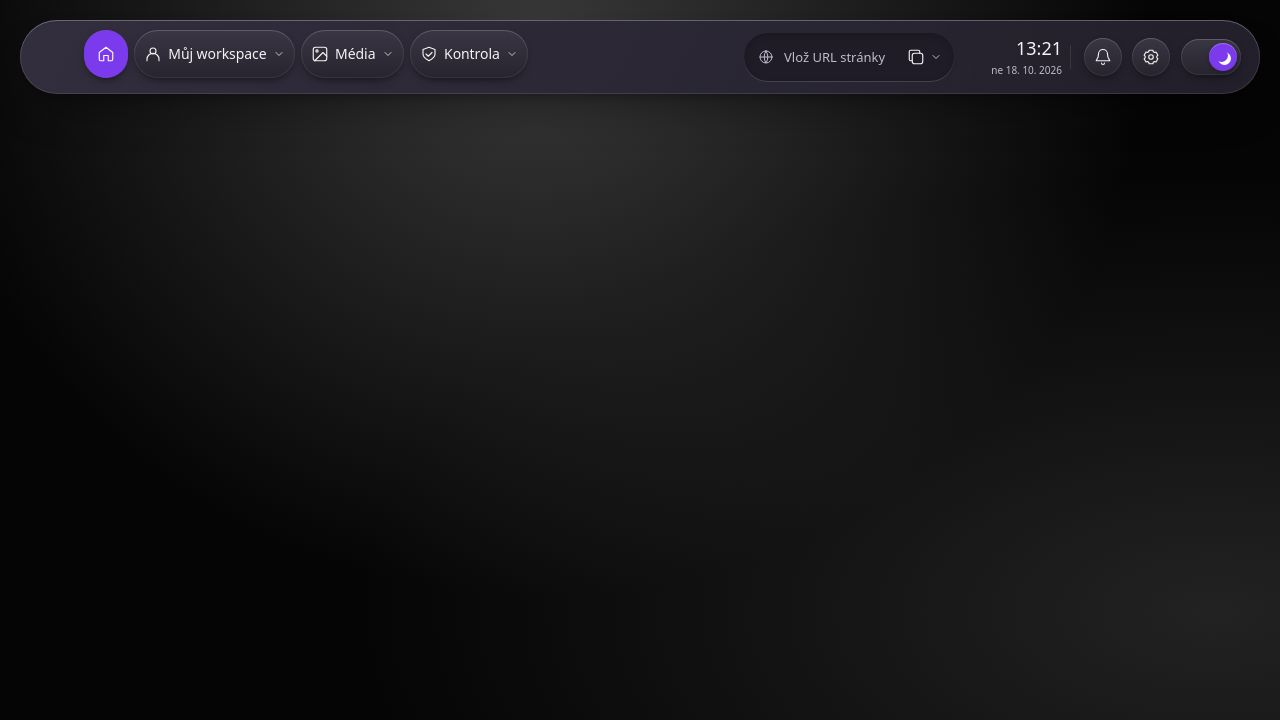
it: migrated application › opens notifications in the shared header menu flow and restores focus
This screenshot has width=1280, height=720.
Click the button named "Upozornění" at (1103, 57), box [1081,35,1125,79]
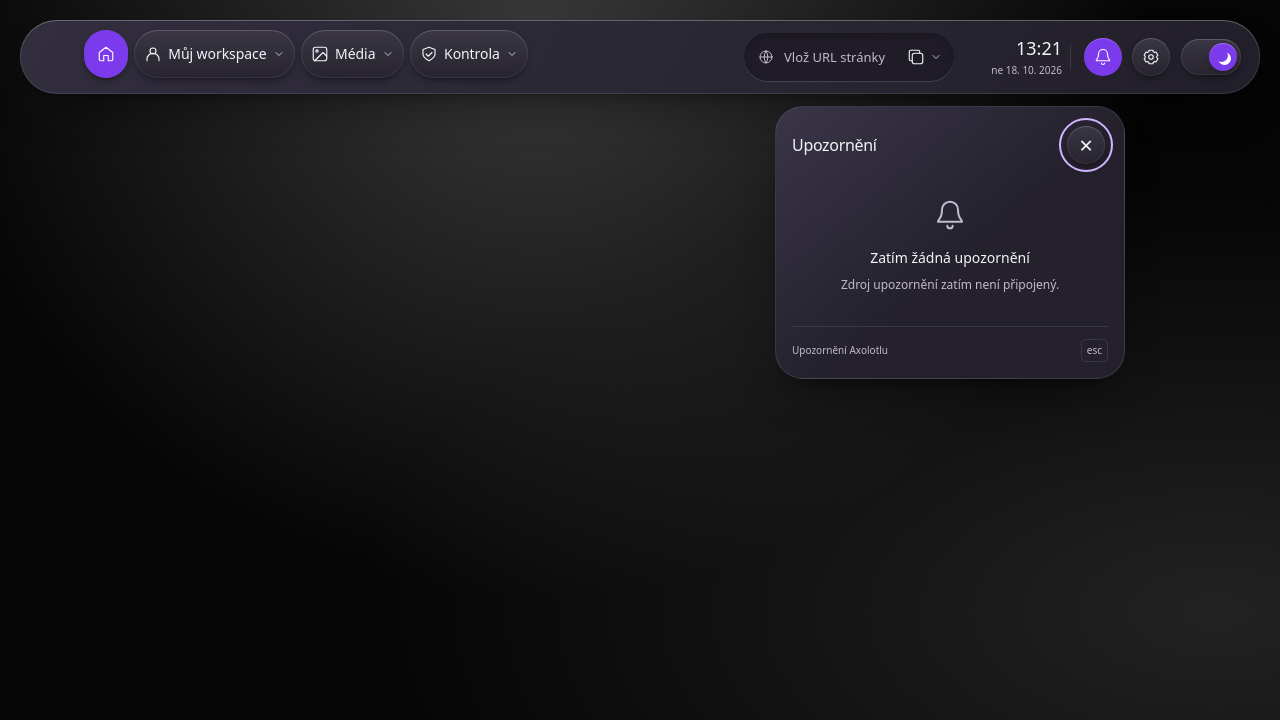
Check: the heading "Zatím žádná upozornění" is shown, box [870,248,1030,267]
Press Escape
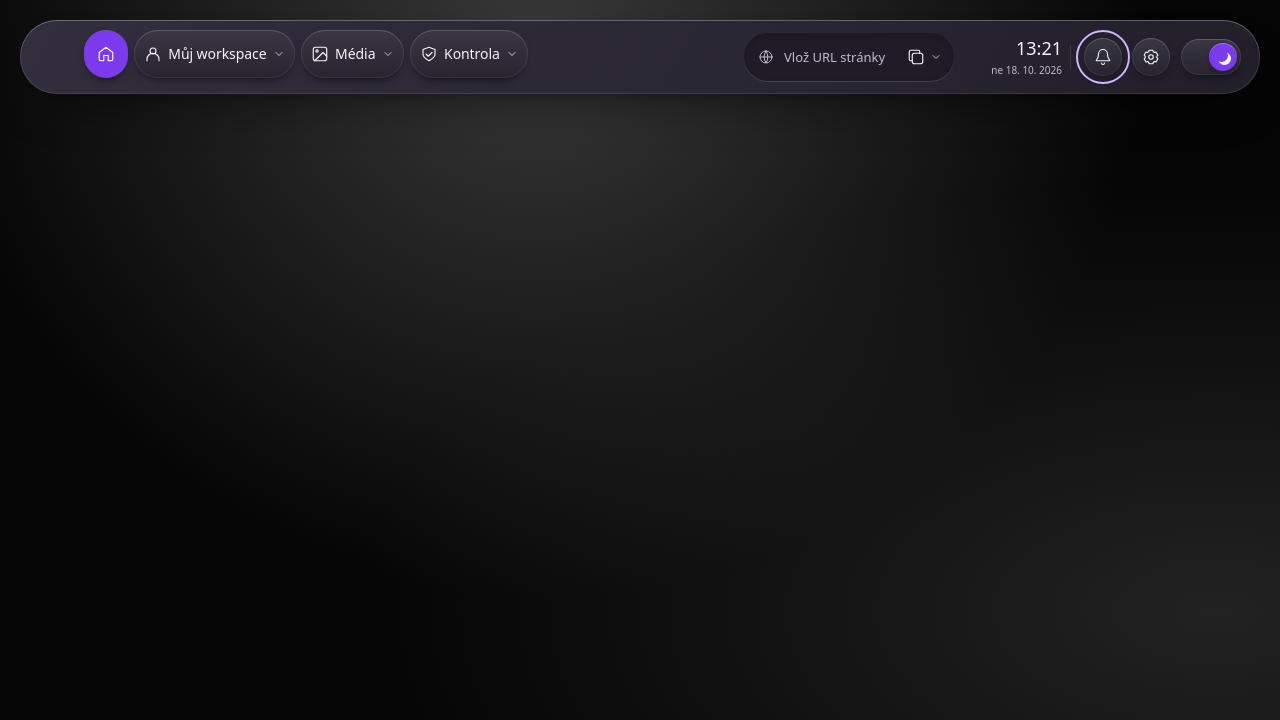
Check: the button named "Upozornění" is collapsed
Click the button named "Upozornění" at (1103, 57), box [1081,35,1125,79]
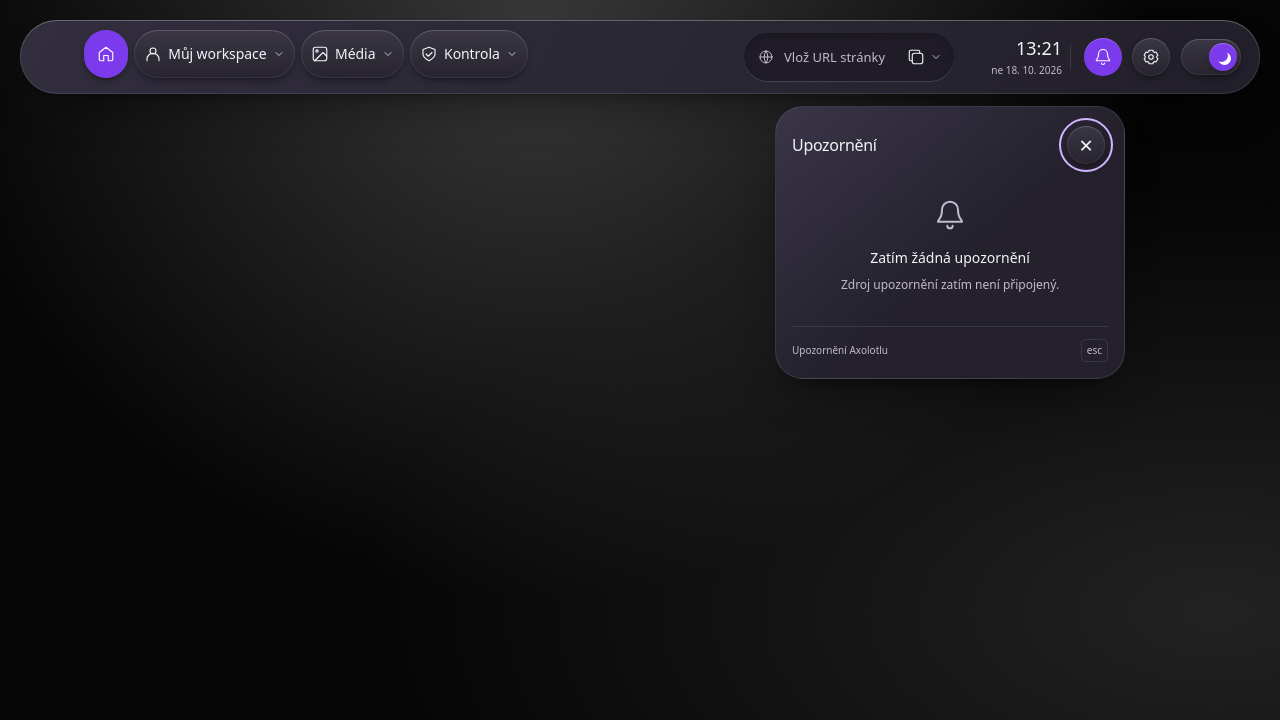
Click the button "Média Média" at (352, 54), box [301,30,404,78]
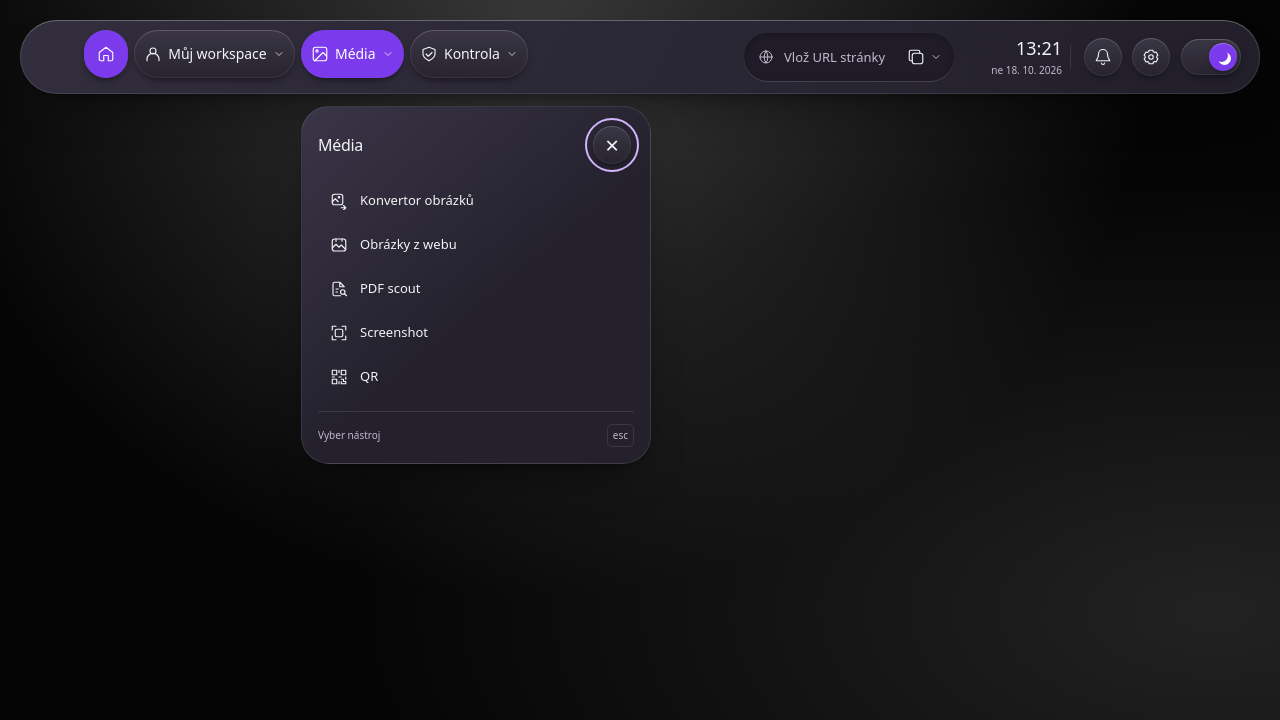
Check: the button named "Upozornění" is collapsed, box [1081,35,1125,79]
Click the button named "Nastavení" at (1151, 57), box [1129,35,1173,79]
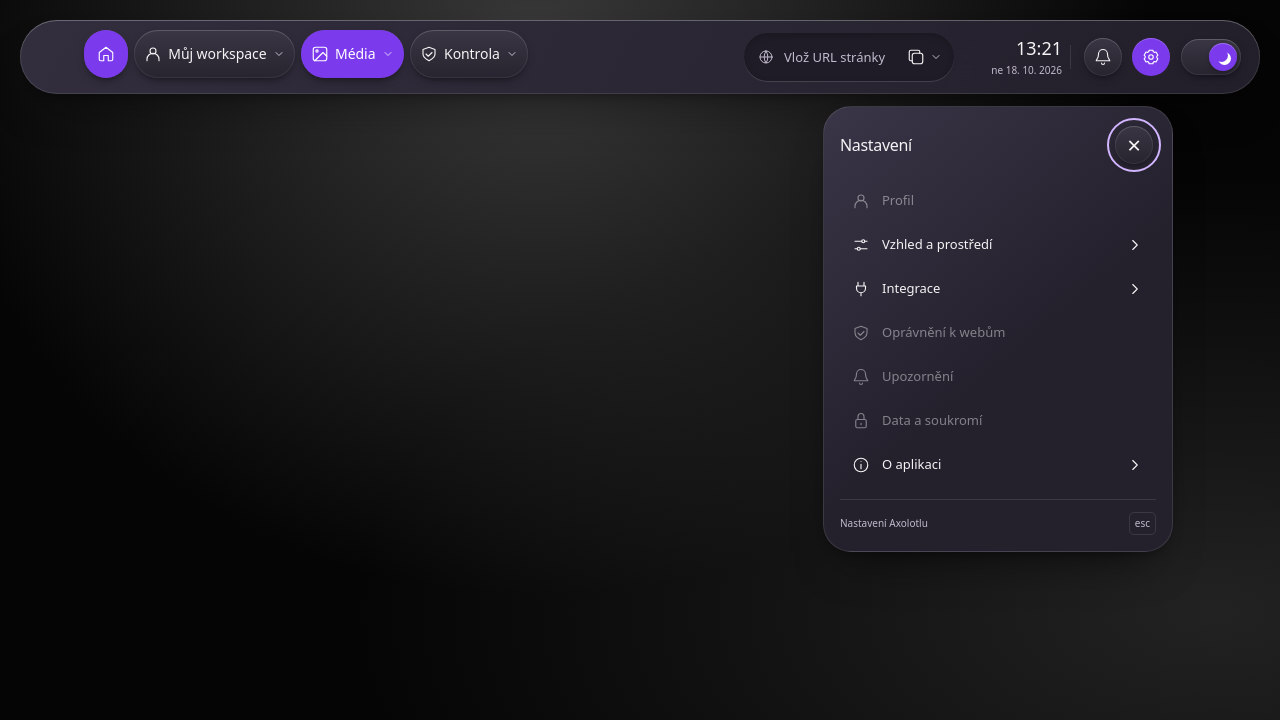
Check: the button "Vzhled a prostředí" is shown, box [840,223,1156,267]
